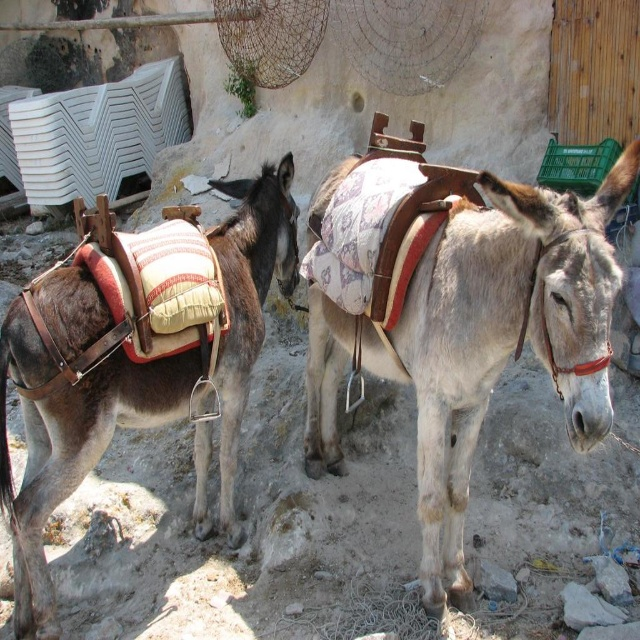Mule: (299, 110, 640, 620), (0, 150, 300, 640)
